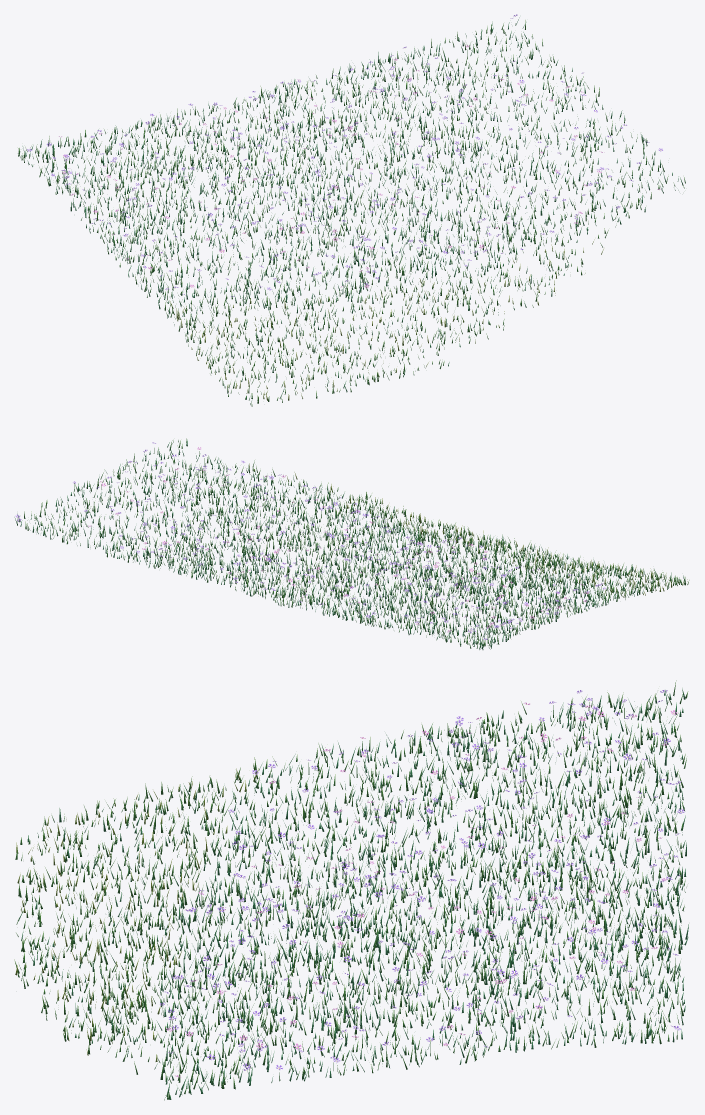
The picture shows the model from 3 angles, top to bottom: view 1: azimuth 30°, elevation 25°; view 2: azimuth 150°, elevation 25°; view 3: azimuth 270°, elevation 25°; orthographic projection. The views are drawn at different scales.
Visible parts, largest first — view 1: gc_4; view 2: gc_4; view 3: gc_4.
Part boxes in pixels (x1,y1,x2,y2): gc_4: (18,14,685,406); gc_4: (14,438,689,649); gc_4: (14,680,688,1100).
Bounding box in the file's own units: 18.19 × 4.12 × 14.14.
1 material, 1 textured.
